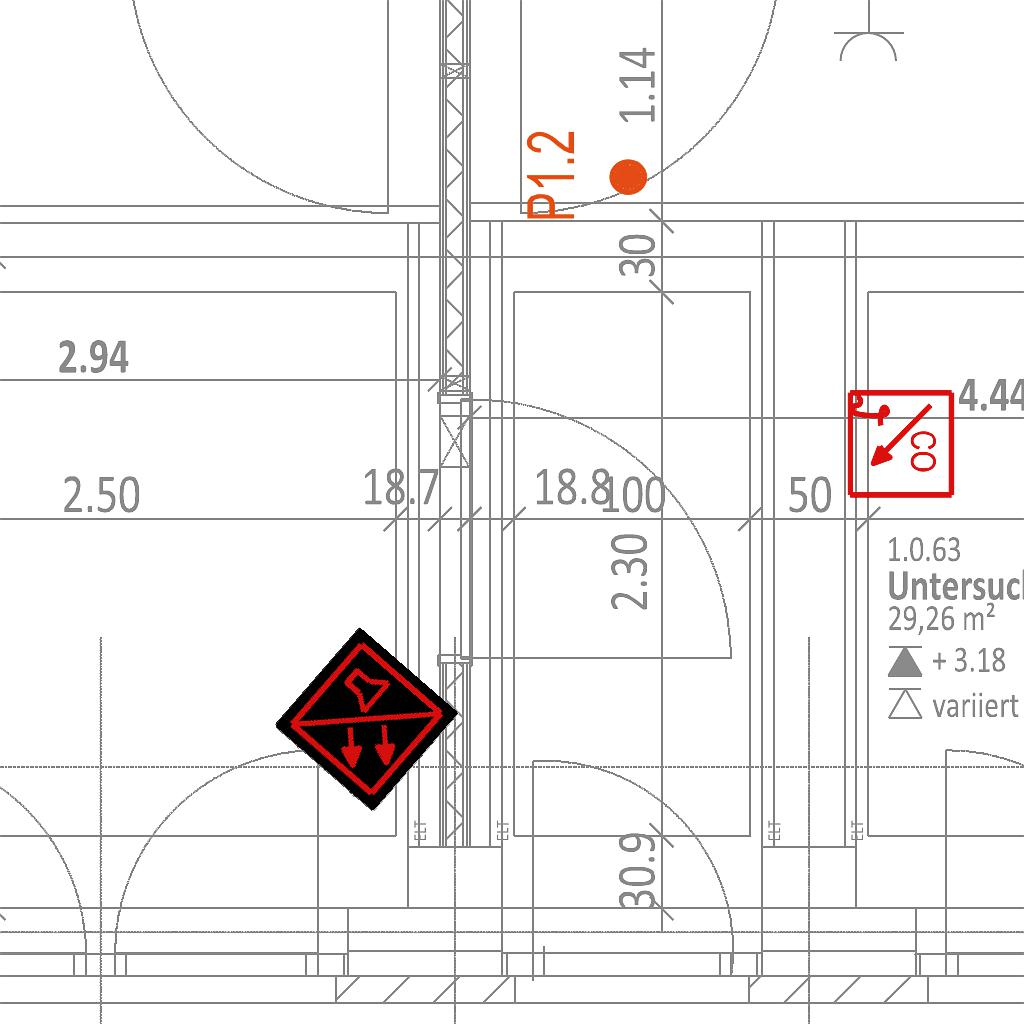Downlight_LED_Einbauleuchten_Flur: (523, 129, 651, 222)
OKW_Multisensormelder_(Kombination_optischer_Rauch-Kahlenmonoxid_Waerme-Melder): (272, 626, 460, 814)
ROA_Rauchmelder_optisch_mit_Signalgeber_(Sockelsirene): (843, 388, 956, 501)
